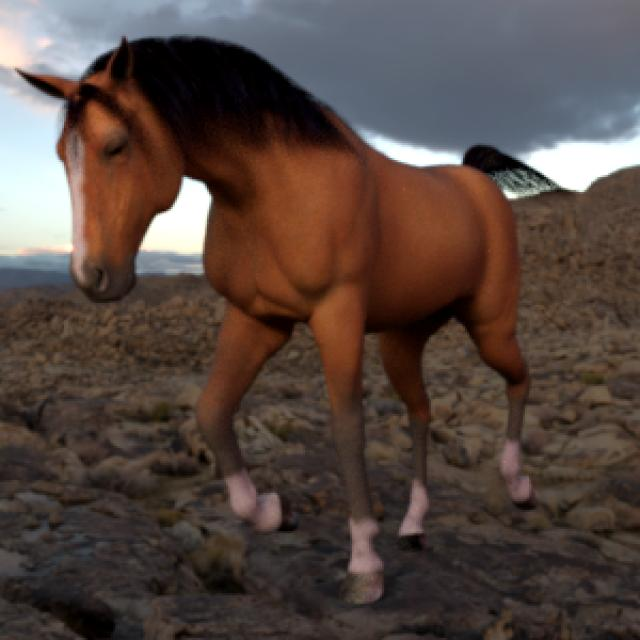horse: (19, 39, 551, 603)
